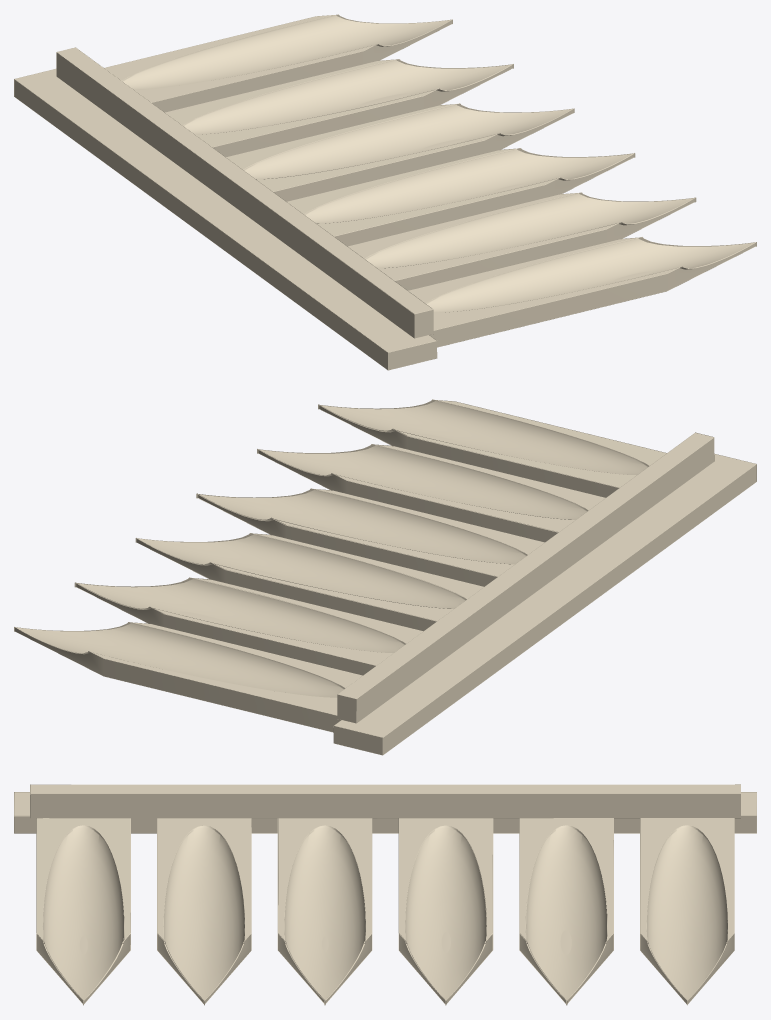
File: moncongkertas.fbx
3 renders of one model, top to bottom at view 1: azimuth 30°, elevation 25°; view 2: azimuth 150°, elevation 25°; view 3: azimuth 270°, elevation 25°, orthographic.
Parts seen in each view (by area): view 1: Sisir Pengisi Puyer Kampel; view 2: Sisir Pengisi Puyer Kampel; view 3: Sisir Pengisi Puyer Kampel.
Part boxes in pixels (<box>): Sisir Pengisi Puyer Kampel: <box>14,14,756,370</box>; Sisir Pengisi Puyer Kampel: <box>14,399,756,755</box>; Sisir Pengisi Puyer Kampel: <box>14,784,756,1005</box>.
Size of the model in its own units: 364 by 36.51 by 585.
